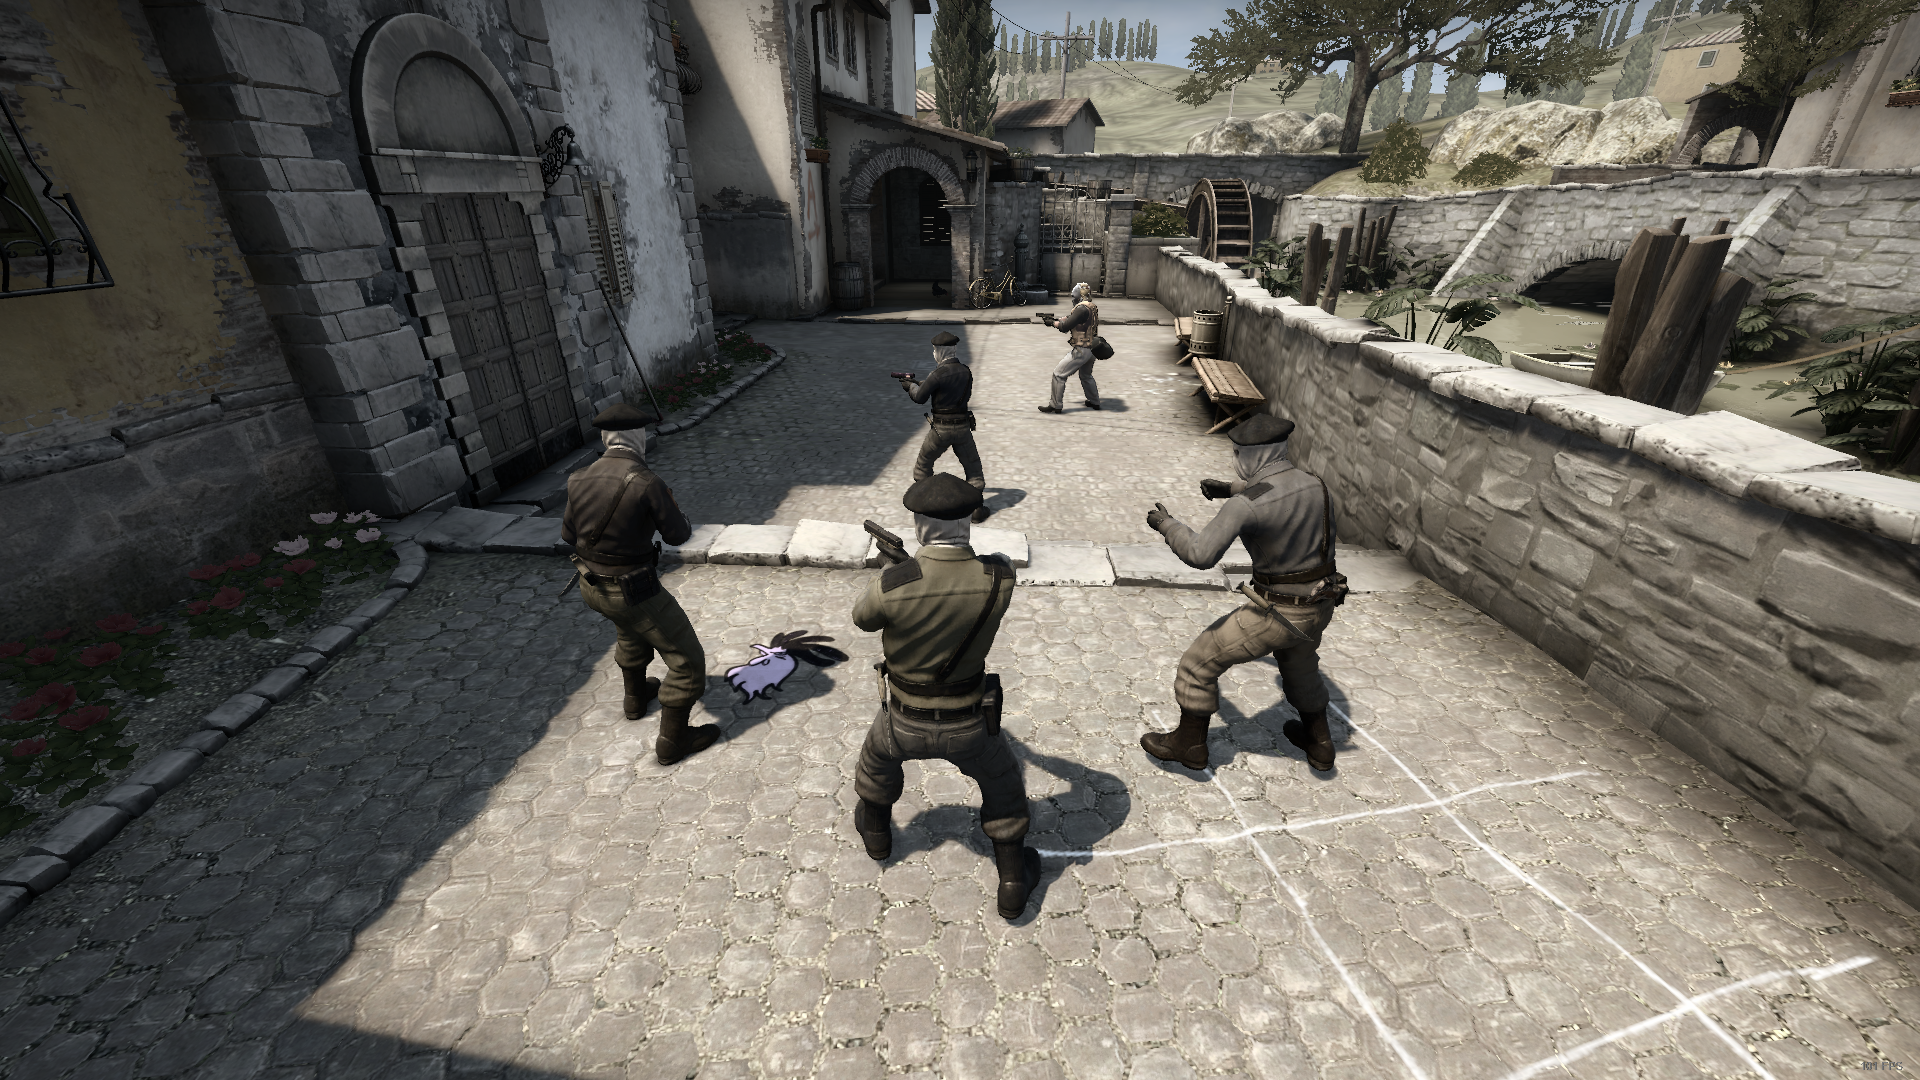t: (836, 473, 1048, 919), (1146, 415, 1350, 779), (556, 406, 728, 765), (891, 332, 997, 518)
